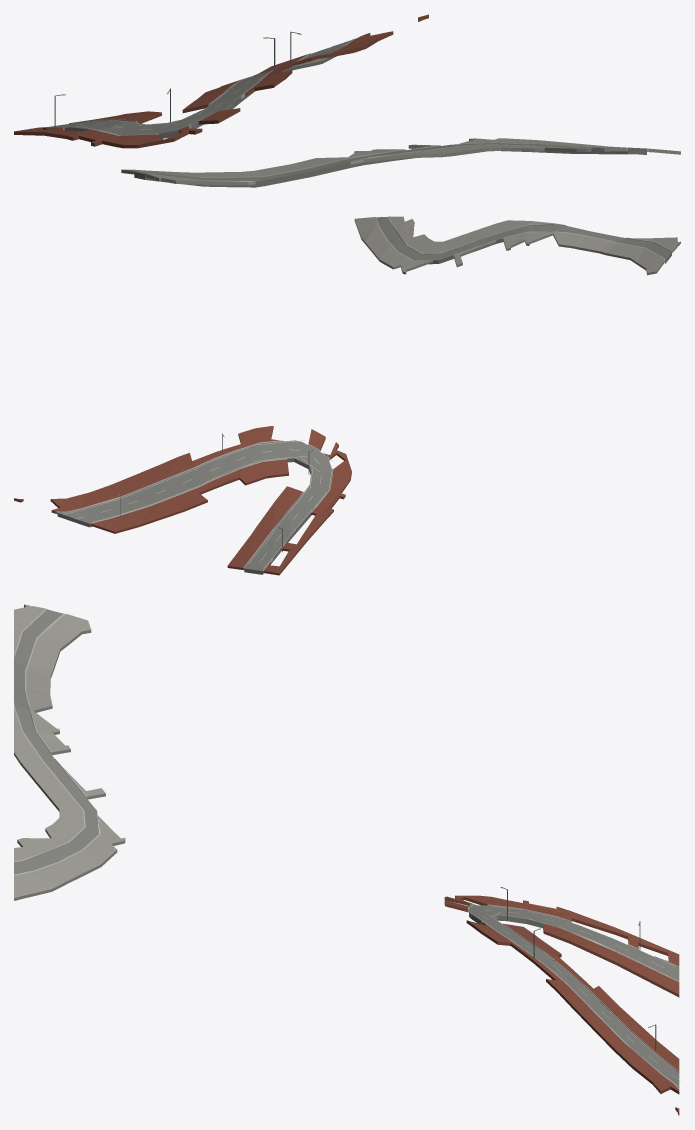
The picture shows the model from 3 angles, top to bottom: view 1: azimuth 30°, elevation 25°; view 2: azimuth 150°, elevation 25°; view 3: azimuth 270°, elevation 25°; orthographic projection. The views are drawn at different scales.
Size of the model in its own units: 141 by 62.91 by 146.
